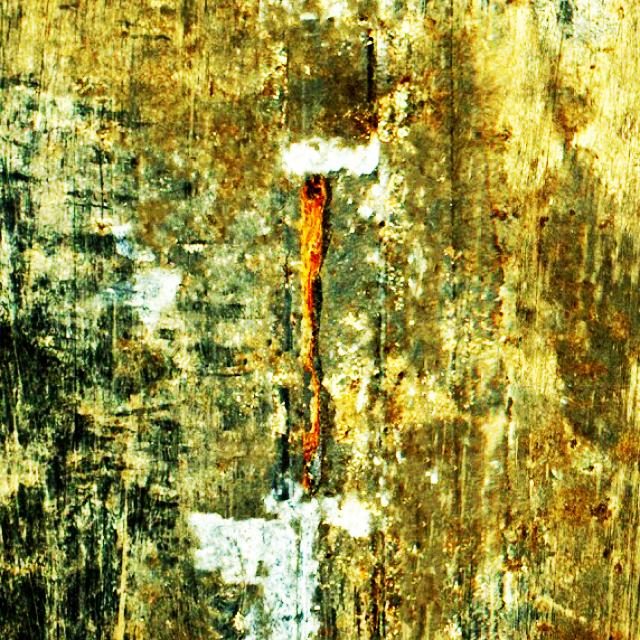Corrosion: (299, 177, 327, 490)
